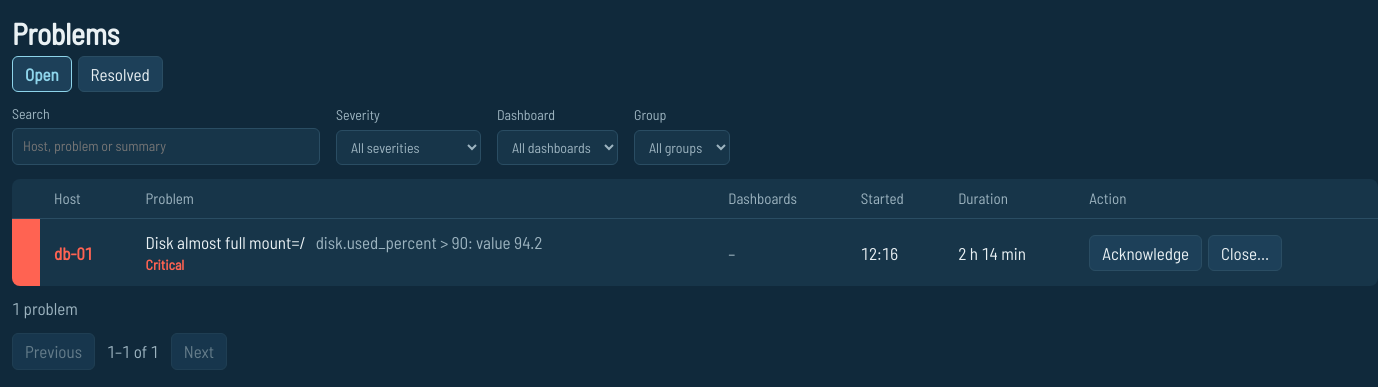
Test: states › shows the failure instead of the old rows when the new query fails
This screenshot has width=1378, height=387.
Click the button "Resolved". click: [120, 74]
box: [78, 56, 163, 92]
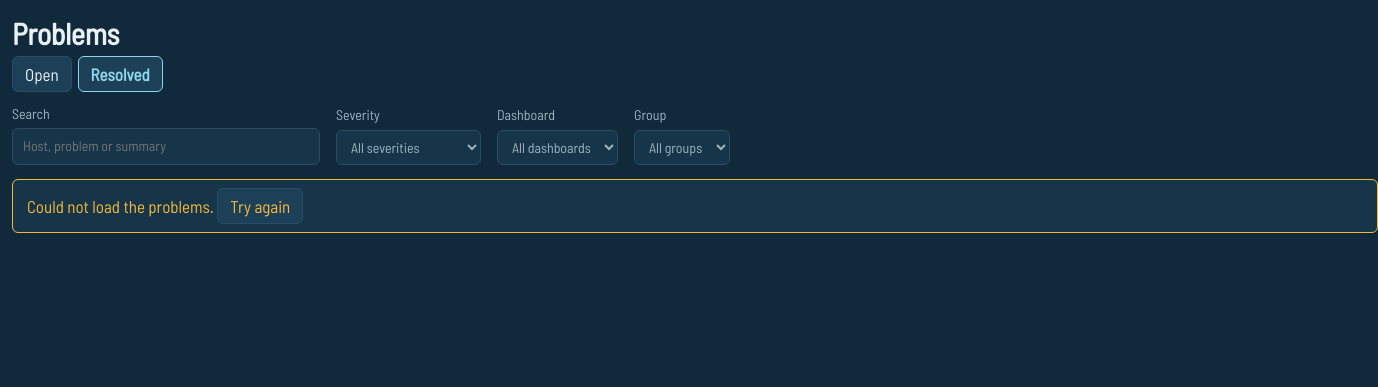
Expected: the text "Could not load the problems. Try again" is shown, [12, 179, 1377, 233]
Expected: the table is gone
